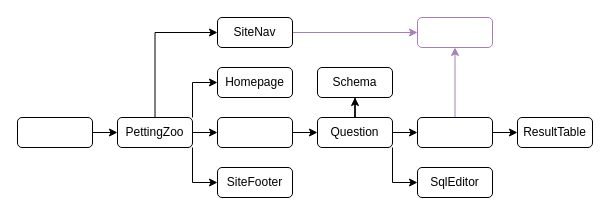
Image size: 610x215. Some labels were removed from this diagram. Each missing label, with the centre of its shape:
"AnimalEmoji" goes at (x=454, y=32).
"App" goes at (x=54, y=132).
"Quiz" goes at (x=254, y=132).
"Results" goes at (x=454, y=132).
